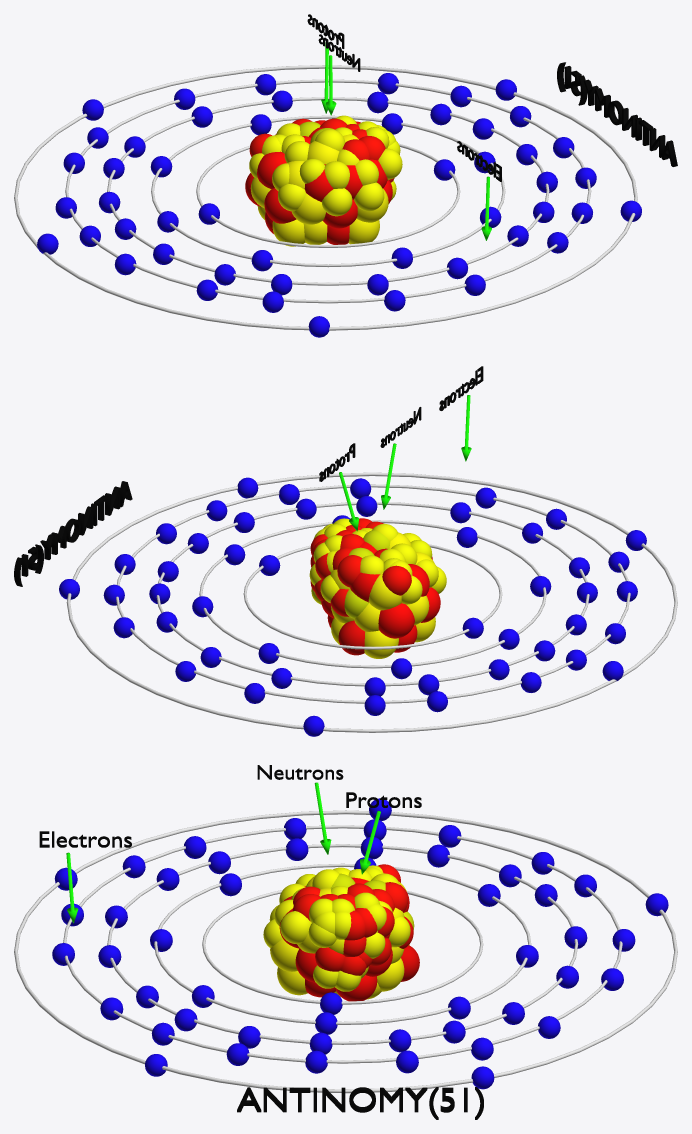
File: Antinomy Atomic Model.gltf
The picture shows the model from 3 angles, top to bottom: view 1: azimuth 30°, elevation 25°; view 2: azimuth 150°, elevation 25°; view 3: azimuth 270°, elevation 25°; orthographic projection. The views are drawn at different scales.
Parts seen in each view (by area): view 1: Sphere.012, Torus.004, Torus.003, Text.003, Torus.002, Torus.001, Torus, Text; view 2: Sphere.012, Torus.004, Torus.003, Text.003, Torus.002, Torus.001, Torus, Sphere.016; view 3: Sphere.012, Torus.004, Torus.003, Torus.002, Text.003, Torus.001, Torus, Text, Text.001, Sphere.009, Text.002.
Part boxes in pixels (x1,y1,x2,y2): Sphere.012: (245,118,402,246); Torus.004: (14,65,637,330); Torus.003: (65,79,591,303); Text.003: (557,62,677,166); Torus.002: (107,97,549,285); Torus.001: (151,115,505,267); Torus: (196,143,460,247); Text: (457,141,501,181); Sphere.012: (309,518,446,658); Torus.004: (66,472,677,732); Torus.003: (116,484,630,703); Text.003: (14,481,132,586); Torus.002: (156,501,589,686); Torus.001: (199,520,546,668); Torus: (243,544,502,649); Sphere.016: (382,565,411,595); Sphere.012: (263,865,419,1001); Torus.004: (14,810,677,1093); Torus.003: (63,825,622,1063); Torus.002: (107,844,578,1044); Text.003: (237,1087,483,1119); Torus.001: (154,863,531,1024); Torus: (202,890,483,1004); Text: (39,831,131,847); Text.001: (257,765,343,779); Sphere.009: (315,947,345,971); Text.002: (346,792,421,807).
Size of the model in its own units: 6.88 by 2.43 by 6.5.
